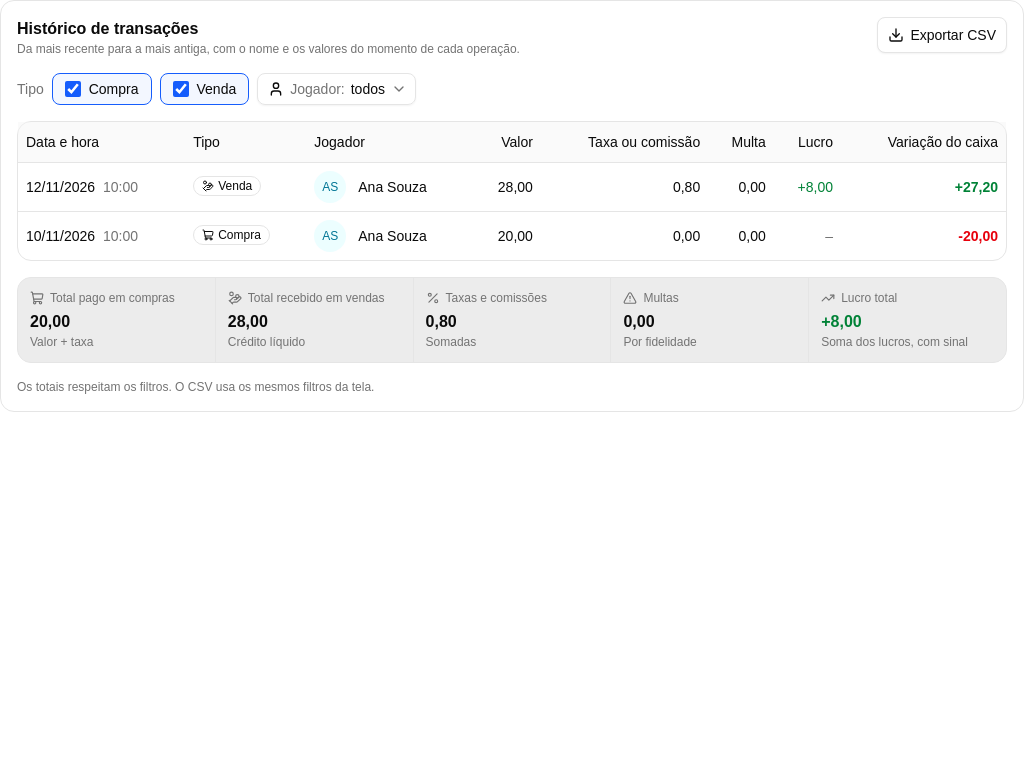
Test: HistoricoDoClube › baixa o CSV com o nome do Content-Disposition e os mesmos filtros
Expected: the number of rows is 3, [18, 122, 1006, 162]; [18, 162, 1006, 211]; [18, 211, 1006, 260]
Click the checkbox labelled "Venda".
click(180, 89)  # box [172, 81, 188, 97]
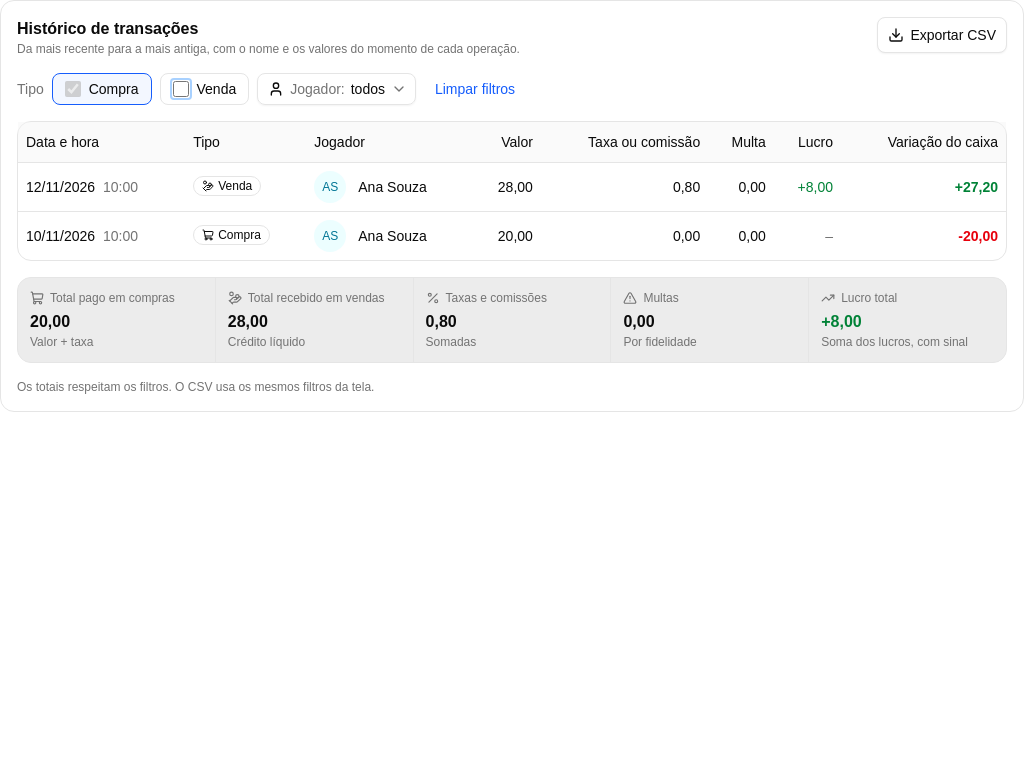
Click the button "Exportar CSV".
click(942, 35)  # box [877, 17, 1007, 53]
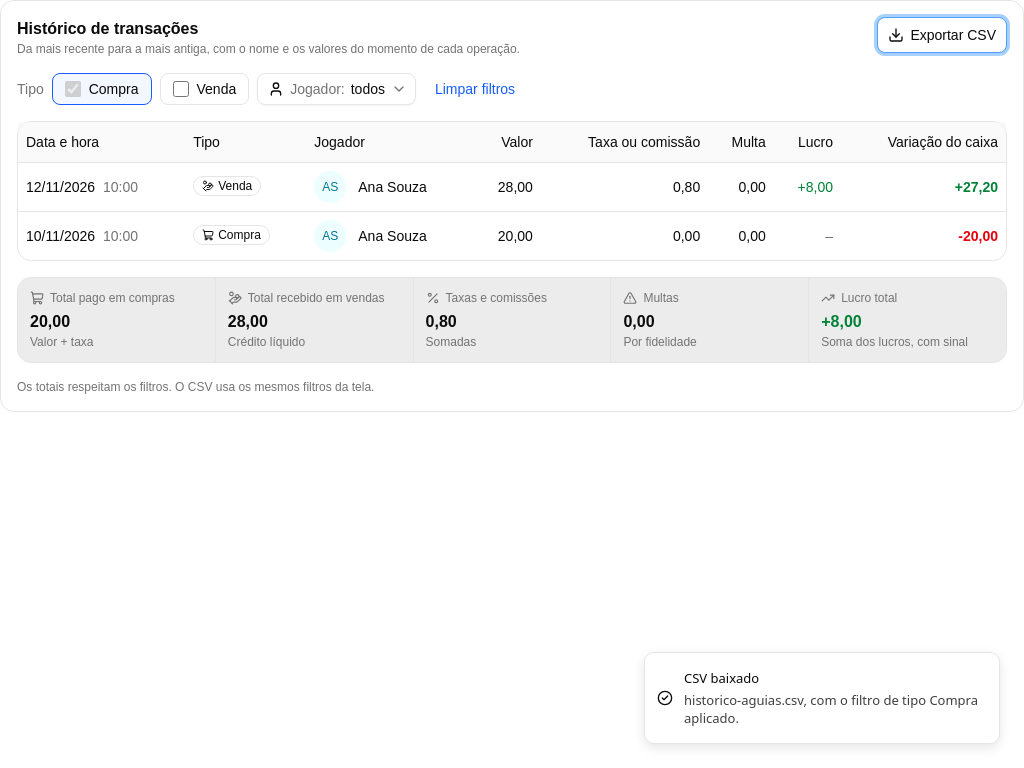
Expected: the text "CSV baixado" is shown, [684, 669, 759, 687]
Expected: the text "historico-aguias.csv, com o filtro de tipo Compra aplicado." is shown, [684, 691, 983, 727]
